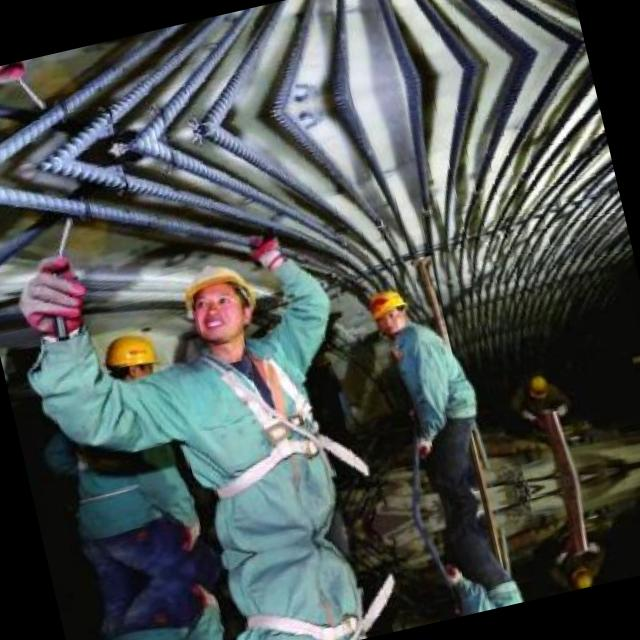helmet: (173, 248, 271, 352), (98, 323, 166, 388), (364, 284, 410, 337), (524, 370, 552, 401), (566, 562, 596, 588)
